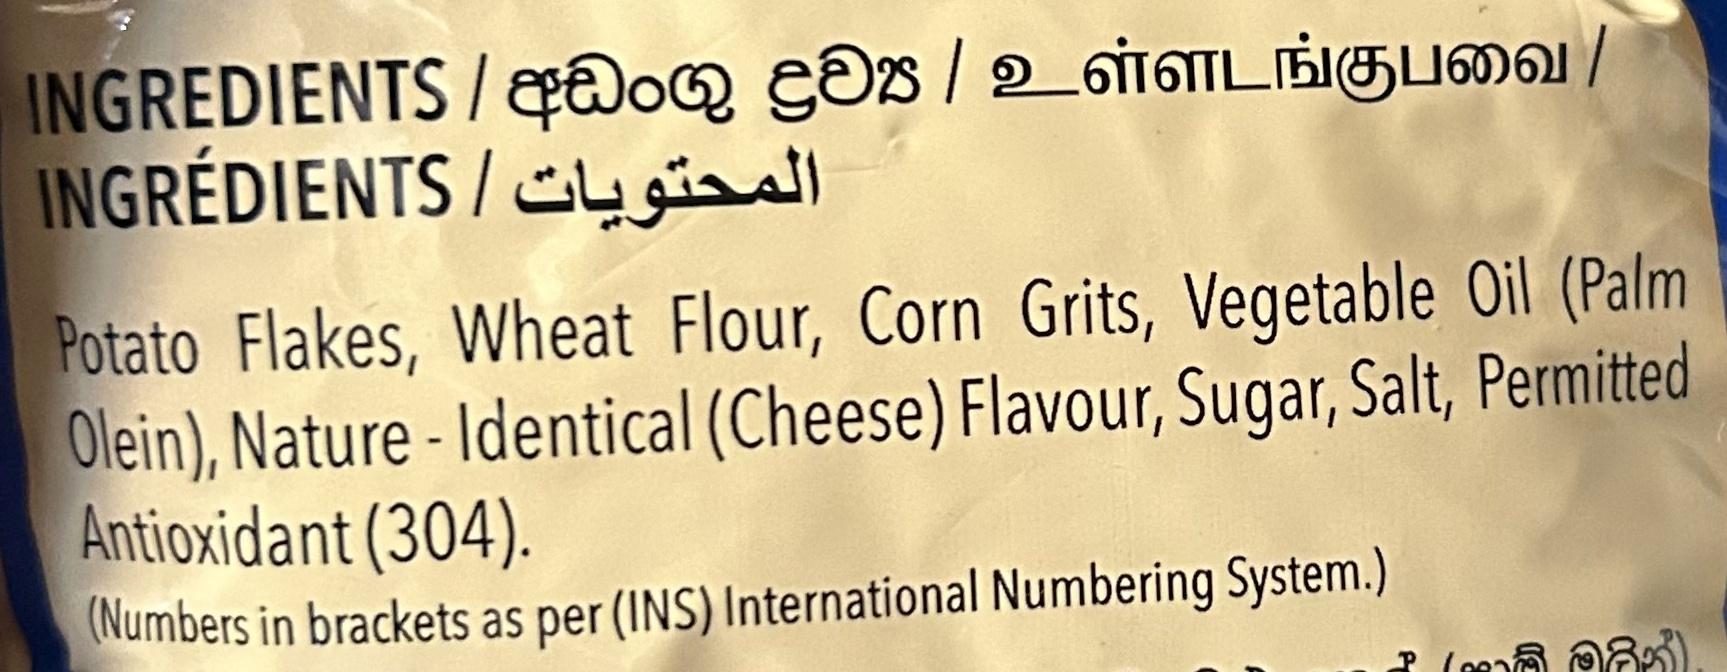ingredients: (15, 44, 1709, 572)
